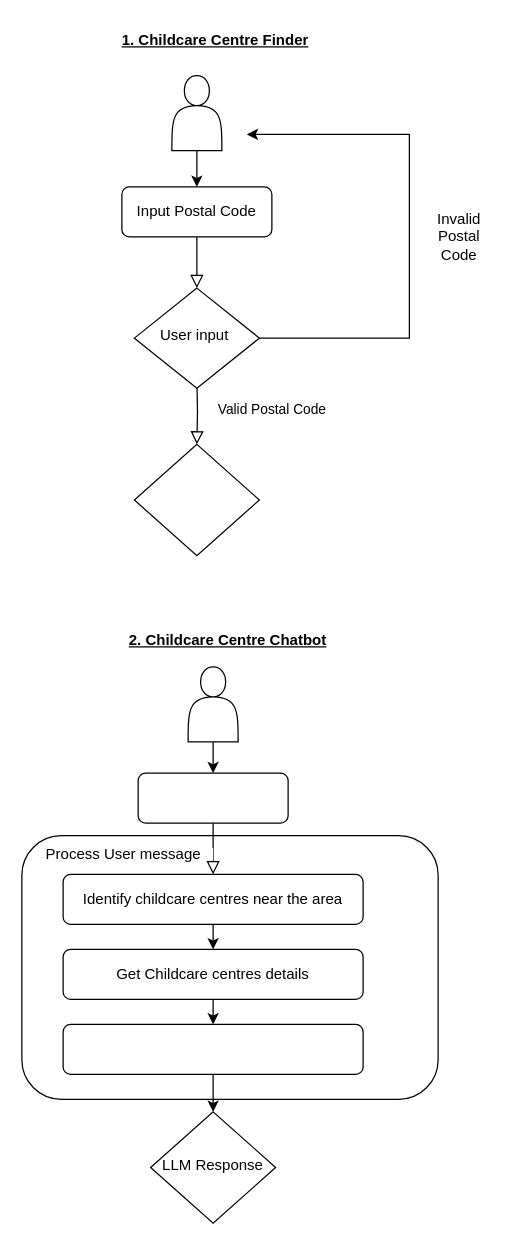
The diagram is 519 pixels wide and 1245 high, and some of its shapes have lost their labels. Here are the shapes that lost their labels. From the top down, the centre of each, then its label:
At pixel 196 499: "Childcare centres near your area".
At pixel 212 797: "User Query".
At pixel 212 1048: "Generate responses based on childcare centres details".
